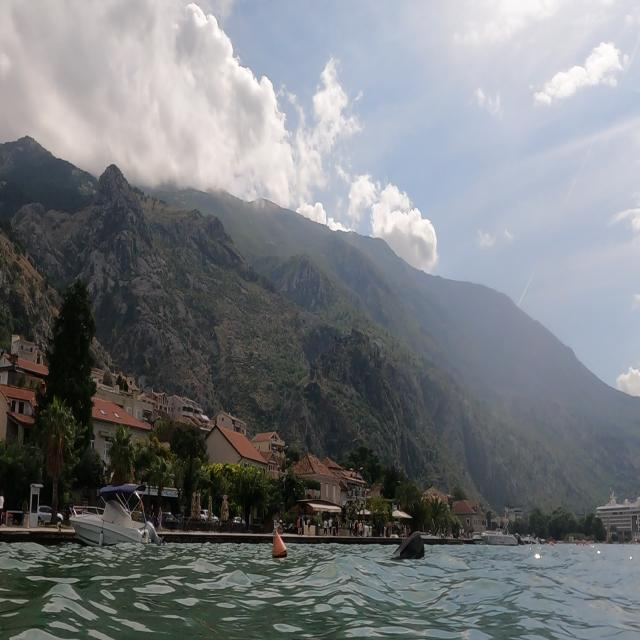boat: (68, 481, 164, 551)
buoy: (388, 525, 431, 571), (268, 519, 300, 562)
